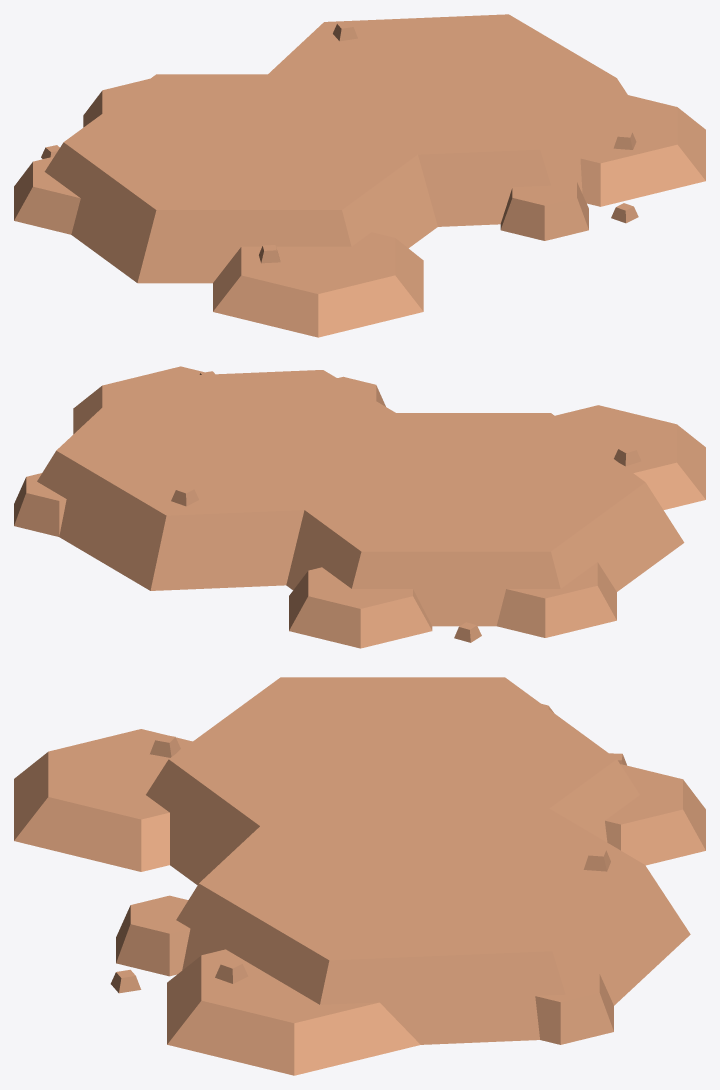
Rendered from rock-flat.obj.
3 views of the same model, one above another, from view 1: azimuth 30°, elevation 25°; view 2: azimuth 150°, elevation 25°; view 3: azimuth 270°, elevation 25° (orthographic). The views are drawn at different scales.
Bounding box in the file's own units: 1.79 × 0.195 × 1.45.
